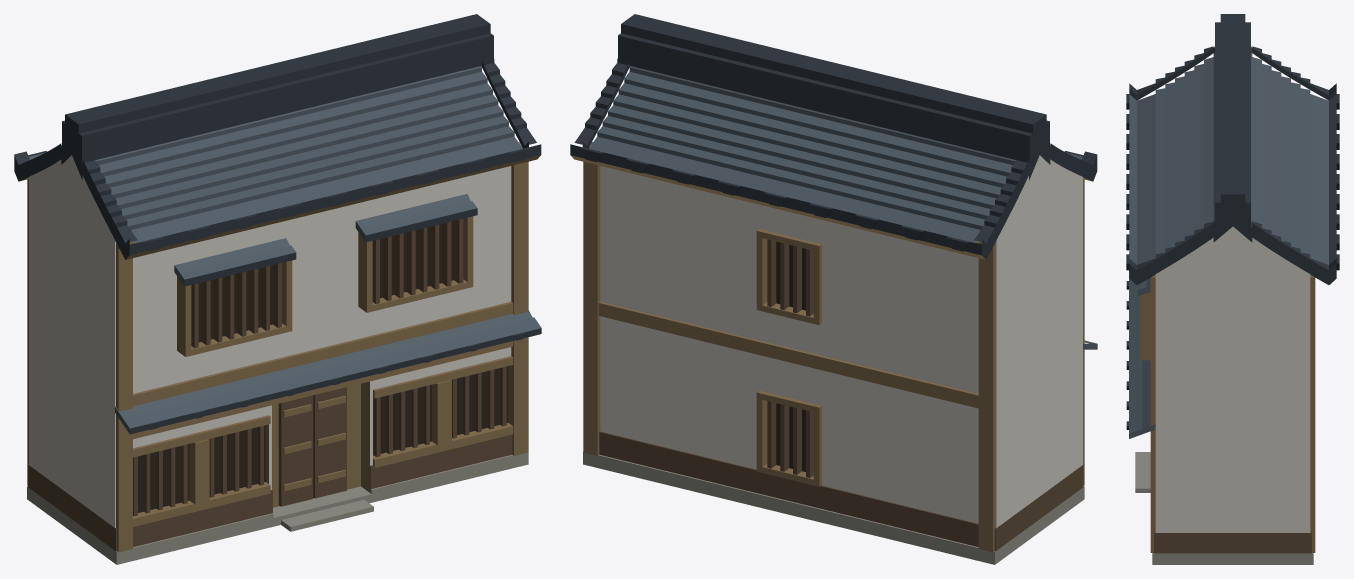
File: machiya-townhouse-8ef64e.glb
3 renders of one model, left to right at view 1: azimuth 30°, elevation 25°; view 2: azimuth 150°, elevation 25°; view 3: azimuth 270°, elevation 25°, orthographic. The views are drawn at different scales.
Parts seen in each view (by area): view 1: machiya-shell, door-l-leaf, door-r-leaf; view 2: machiya-shell; view 3: machiya-shell.
Boxes of the visible parts, x1,y1,x2,y2 form: machiya-shell: (14,14,541,564); door-l-leaf: (279,395,313,506); door-r-leaf: (313,387,346,498); machiya-shell: (570,14,1097,564); machiya-shell: (1126,14,1339,564).
Size of the model in its own units: 8 by 7.66 by 4.
